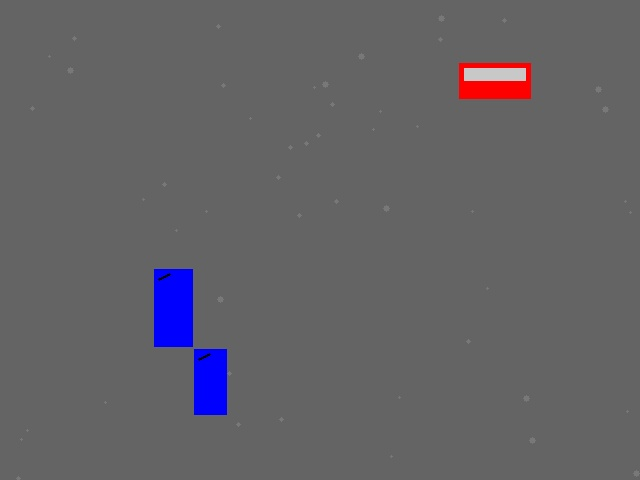car: (459, 63, 530, 98)
motorcycle: (154, 269, 192, 346), (194, 349, 226, 414)
